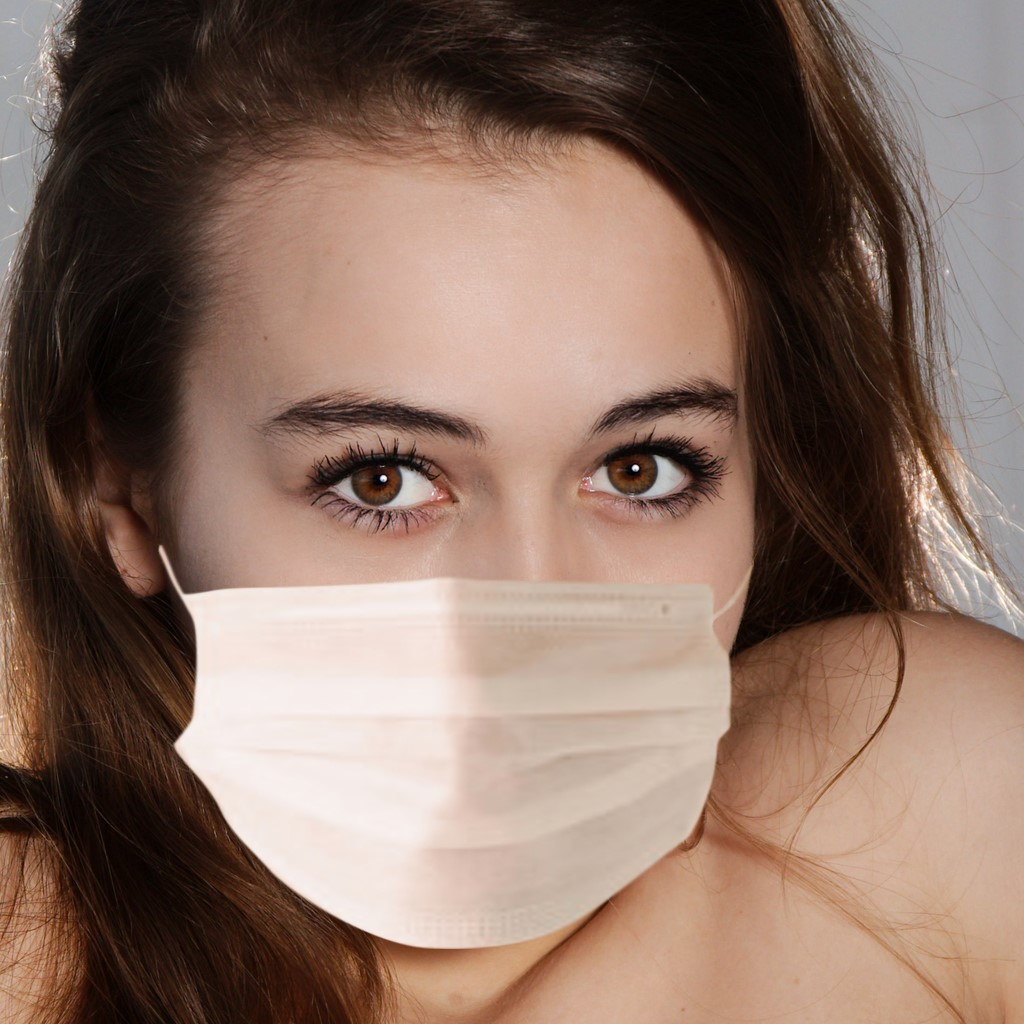con_mascara: (118, 82, 769, 937)
